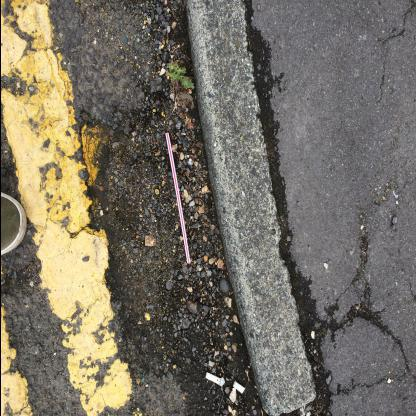plastik: (165, 133, 191, 265)
